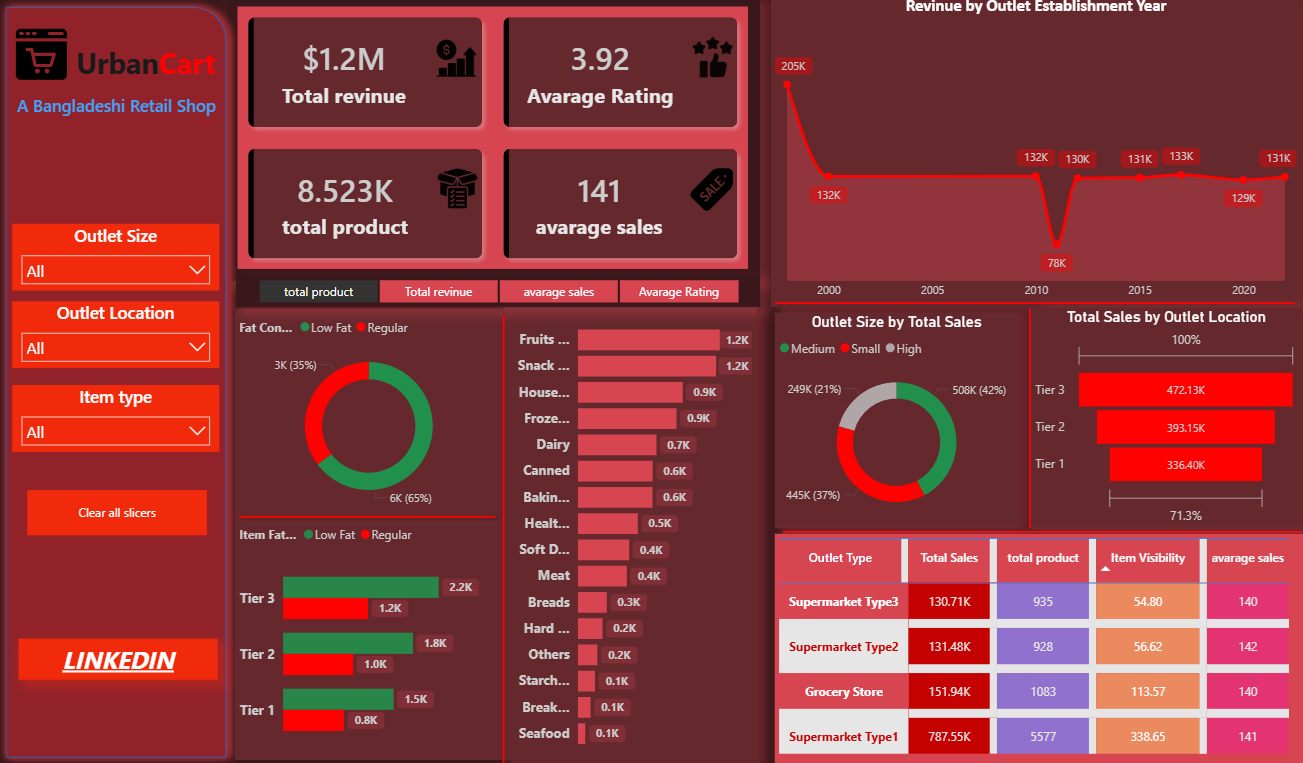

What the dashboard file says about the page in this screenshot:
{"tool":"powerbi","page":{"name":"Page 1","canvas":[1480,859],"ordinal":0},"visuals":[{"type":"cardVisual","fields":{"Data":["mesure's.Total revinue","mesure's.Avarage Rating","BlinkIT Grocery Data.total product","BlinkIT Grocery Data.avarage sales"]},"box":[255.7,0,594.3,318.6],"z":0},{"type":"shape","box":[0,2.9,267,856.4],"z":1000},{"type":"barChart","fields":{"Y":["mesure's.total product"],"Category":["BlinkIT Grocery Data.Item Type"]},"box":[564.3,347.1,281.4,502.9],"z":2000},{"type":"donutChart","fields":{"Y":["mesure's.total product"],"Category":["BlinkIT Grocery Data.Item Fat Content"]},"box":[265.7,348.6,298.6,231.4],"z":3000},{"type":"clusteredBarChart","fields":{"Y":["mesure's.total product"],"Category":["BlinkIT Grocery Data.Outlet Location Type"],"Series":["BlinkIT Grocery Data.Item Fat Content"]},"box":[265.7,580,298.6,271.4],"z":4000},{"type":"slicer","fields":{"Values":["Parameter.Parameter"]},"box":[267.1,310,582.9,37.1],"z":5000},{"type":"lineChart","title":"Revinue by Outlet Establishment Year","fields":{"Y":["mesure's.Total revinue"],"Category":["BlinkIT Grocery Data.Outlet Establishment Year"]},"box":[862.9,0,590,347.1],"z":6000},{"type":"donutChart","title":"Outlet Size by Total Sales","fields":{"Y":["Sum(BlinkIT Grocery Data.Total Sales)"],"Category":["BlinkIT Grocery Data.Outlet Size"]},"box":[867.1,352.9,271.4,240],"z":7000},{"type":"funnel","title":"Total Sales by Outlet Location","fields":{"Category":["BlinkIT Grocery Data.Outlet Location Type"],"Y":["Sum(BlinkIT Grocery Data.Total Sales)"]},"box":[1151.4,347.1,301.4,247.1],"z":8000},{"type":"shape","box":[867.1,588.6,595.7,12.9],"z":9000},{"type":"shape","box":[558.6,355.7,11.4,502.9],"z":10000},{"type":"shape","box":[261.4,571.4,302.9,12.9],"z":11000},{"type":"shape","box":[1141.4,348.6,17.1,244.3],"z":12000},{"type":"shape","box":[858.6,334.3,595.7,12.9],"z":13000},{"type":"pivotTable","fields":{"Rows":["BlinkIT Grocery Data.Outlet Type"],"Values":["Sum(BlinkIT Grocery Data.Total Sales)","mesure's.total product","Sum(BlinkIT Grocery Data.Item Visibility)","BlinkIT Grocery Data.avarage sales"]},"box":[867.1,600,588.6,255.7],"z":14000},{"type":"textbox","box":[77.3,48.1,178,56.9],"z":15000},{"type":"slicer","title":"Outlet Size","fields":{"Values":["BlinkIT Grocery Data.Outlet Size"]},"box":[18.6,254.3,230,74.3],"z":16000},{"type":"slicer","title":"Outlet Location","fields":{"Values":["BlinkIT Grocery Data.Outlet Location Type"]},"box":[18.6,341.4,230,74.3],"z":17000},{"type":"slicer","title":"Item type","fields":{"Values":["BlinkIT Grocery Data.Item Type"]},"box":[18.6,434.3,230,74.3],"z":18000},{"type":"textbox","box":[12.9,105.7,242.9,38.6],"z":19000},{"type":"actionButton","box":[34.3,551.4,200,50],"z":20000},{"type":"textbox","box":[25.7,715.7,221.4,45.7],"z":21000},{"type":"image","box":[13.1,37.9,75.9,56.9],"z":22000}]}

Visuals, with their boxes in screenshot pixels (x1, y1, x2, y2), scaled from the page's 1480x859 canvas onto the 1303x763 screenshot:
cardVisual - mesure's.Total revinue x mesure's.Avarage Rating: [x1=225, y1=0, x2=748, y2=283]
shape: [x1=0, y1=3, x2=235, y2=762]
barChart - mesure's.total product x BlinkIT Grocery Data.Item Type: [x1=497, y1=308, x2=745, y2=755]
donutChart - mesure's.total product x BlinkIT Grocery Data.Item Fat Content: [x1=234, y1=310, x2=497, y2=515]
clusteredBarChart - mesure's.total product x BlinkIT Grocery Data.Outlet Location Type: [x1=234, y1=515, x2=497, y2=756]
slicer - Parameter.Parameter: [x1=235, y1=275, x2=748, y2=308]
"Revinue by Outlet Establishment Year" lineChart: [x1=760, y1=0, x2=1279, y2=308]
"Outlet Size by Total Sales" donutChart: [x1=763, y1=313, x2=1002, y2=527]
"Total Sales by Outlet Location" funnel: [x1=1014, y1=308, x2=1279, y2=528]
shape: [x1=763, y1=523, x2=1288, y2=534]
shape: [x1=492, y1=316, x2=502, y2=762]
shape: [x1=230, y1=508, x2=497, y2=519]
shape: [x1=1005, y1=310, x2=1020, y2=527]
shape: [x1=756, y1=297, x2=1280, y2=308]
pivotTable - BlinkIT Grocery Data.Outlet Type x Sum(BlinkIT Grocery Data.Total Sales): [x1=763, y1=533, x2=1282, y2=760]
textbox: [x1=68, y1=43, x2=225, y2=93]
"Outlet Size" slicer: [x1=16, y1=226, x2=219, y2=292]
"Outlet Location" slicer: [x1=16, y1=303, x2=219, y2=369]
"Item type" slicer: [x1=16, y1=386, x2=219, y2=452]
textbox: [x1=11, y1=94, x2=225, y2=128]
actionButton: [x1=30, y1=490, x2=206, y2=534]
textbox: [x1=23, y1=636, x2=218, y2=676]
image: [x1=12, y1=34, x2=78, y2=84]
